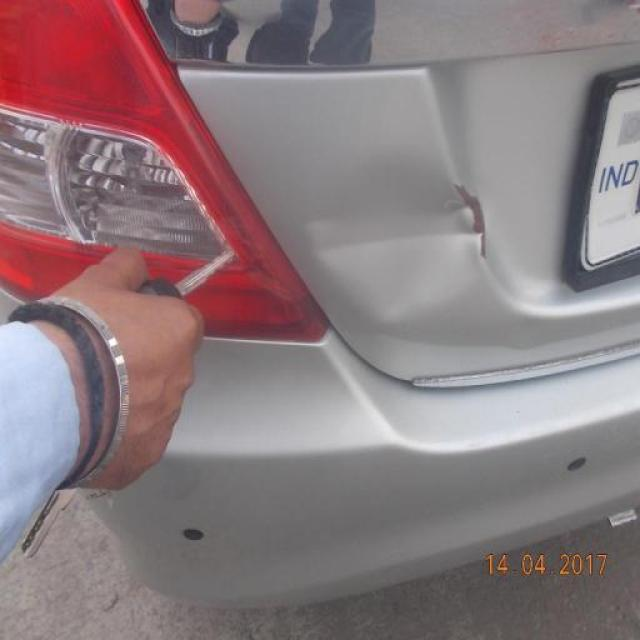dent: (306, 151, 484, 319)
